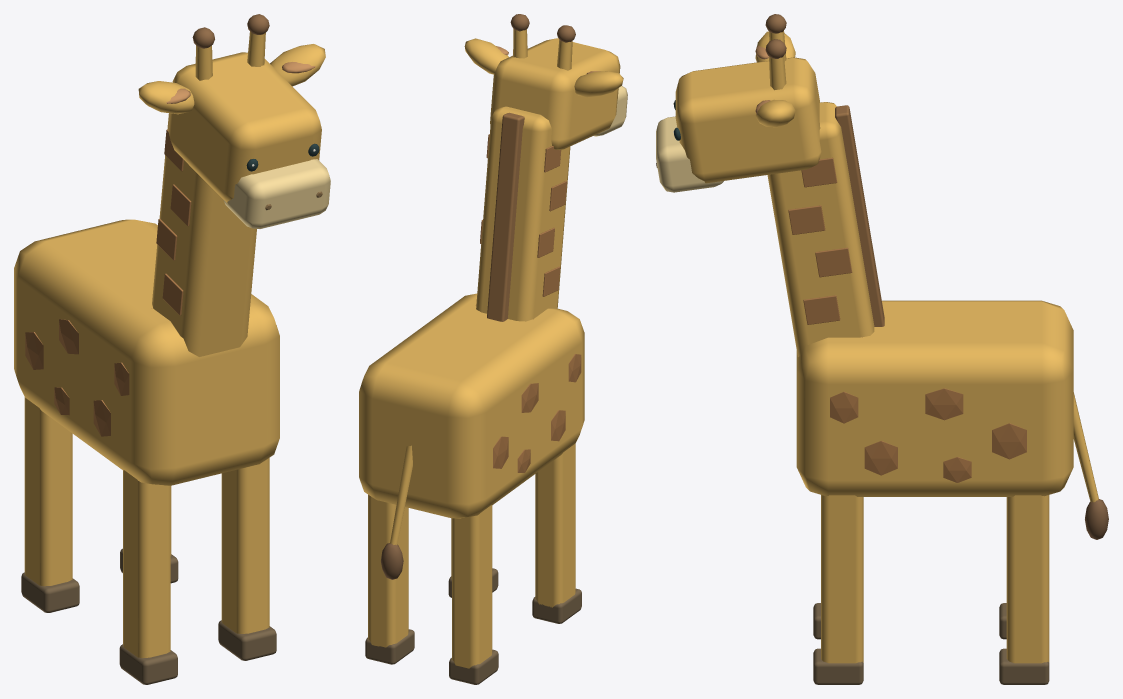
File: giraffe.glb
The picture shows the model from 3 angles, left to right: view 1: azimuth 30°, elevation 25°; view 2: azimuth 150°, elevation 25°; view 3: azimuth 270°, elevation 25°; orthographic projection. The views are drawn at different scales.
Visible parts, largest first — view 1: body, head, neck, leg_-0.29_0.35, leg_-0.29_-0.65, leg_0.29_0.35, muzzle, hoof (×3), Giraffe, ear (×2), ossicone (×2); view 2: body, neck, head, leg_-0.29_-0.65, leg_-0.29_0.35, leg_0.29_-0.65, mane, hoof (×3), Giraffe, ear (×2), tail, ossicone (×2) (+1 smaller); view 3: body, neck, head, leg_0.29_-0.65, leg_0.29_0.35, Giraffe, mane, hoof (×2), muzzle, tail, ear.
Boxes of the visible parts, <box> form: body: <box>14,219,279,485</box>; head: <box>166,14,322,210</box>; neck: <box>151,113,256,356</box>; leg_-0.29_0.35: <box>123,470,170,658</box>; leg_-0.29_-0.65: <box>24,397,72,586</box>; leg_0.29_0.35: <box>221,458,269,633</box>; muzzle: <box>223,159,330,228</box>; hoof (×3): <box>21,572,276,684</box>; Giraffe: <box>25,319,129,436</box>; ear (×2): <box>138,44,325,114</box>; ossicone (×2): <box>195,31,265,80</box>; body: <box>359,293,584,518</box>; neck: <box>475,106,570,321</box>; head: <box>490,14,620,149</box>; leg_-0.29_-0.65: <box>452,505,492,668</box>; leg_-0.29_0.35: <box>535,444,575,607</box>; leg_0.29_-0.65: <box>368,494,408,647</box>; mane: <box>487,112,524,321</box>; hoof (×3): <box>365,588,581,684</box>; Giraffe: <box>381,354,581,579</box>; ear (×2): <box>464,38,623,97</box>; tail: <box>390,445,412,545</box>; ossicone (×2): <box>513,29,572,70</box>; body: <box>796,300,1073,496</box>; neck: <box>767,102,874,356</box>; head: <box>656,14,821,183</box>; leg_0.29_-0.65: <box>1006,495,1049,663</box>; leg_0.29_0.35: <box>821,495,863,663</box>; Giraffe: <box>830,388,1108,539</box>; mane: <box>835,105,884,326</box>; hoof (×2): <box>813,648,1049,684</box>; muzzle: <box>656,116,723,192</box>; tail: <box>1073,392,1098,502</box>; ear: <box>755,99,795,127</box>.
Size of the model in its own units: 1.09 by 3.73 by 2.44.
